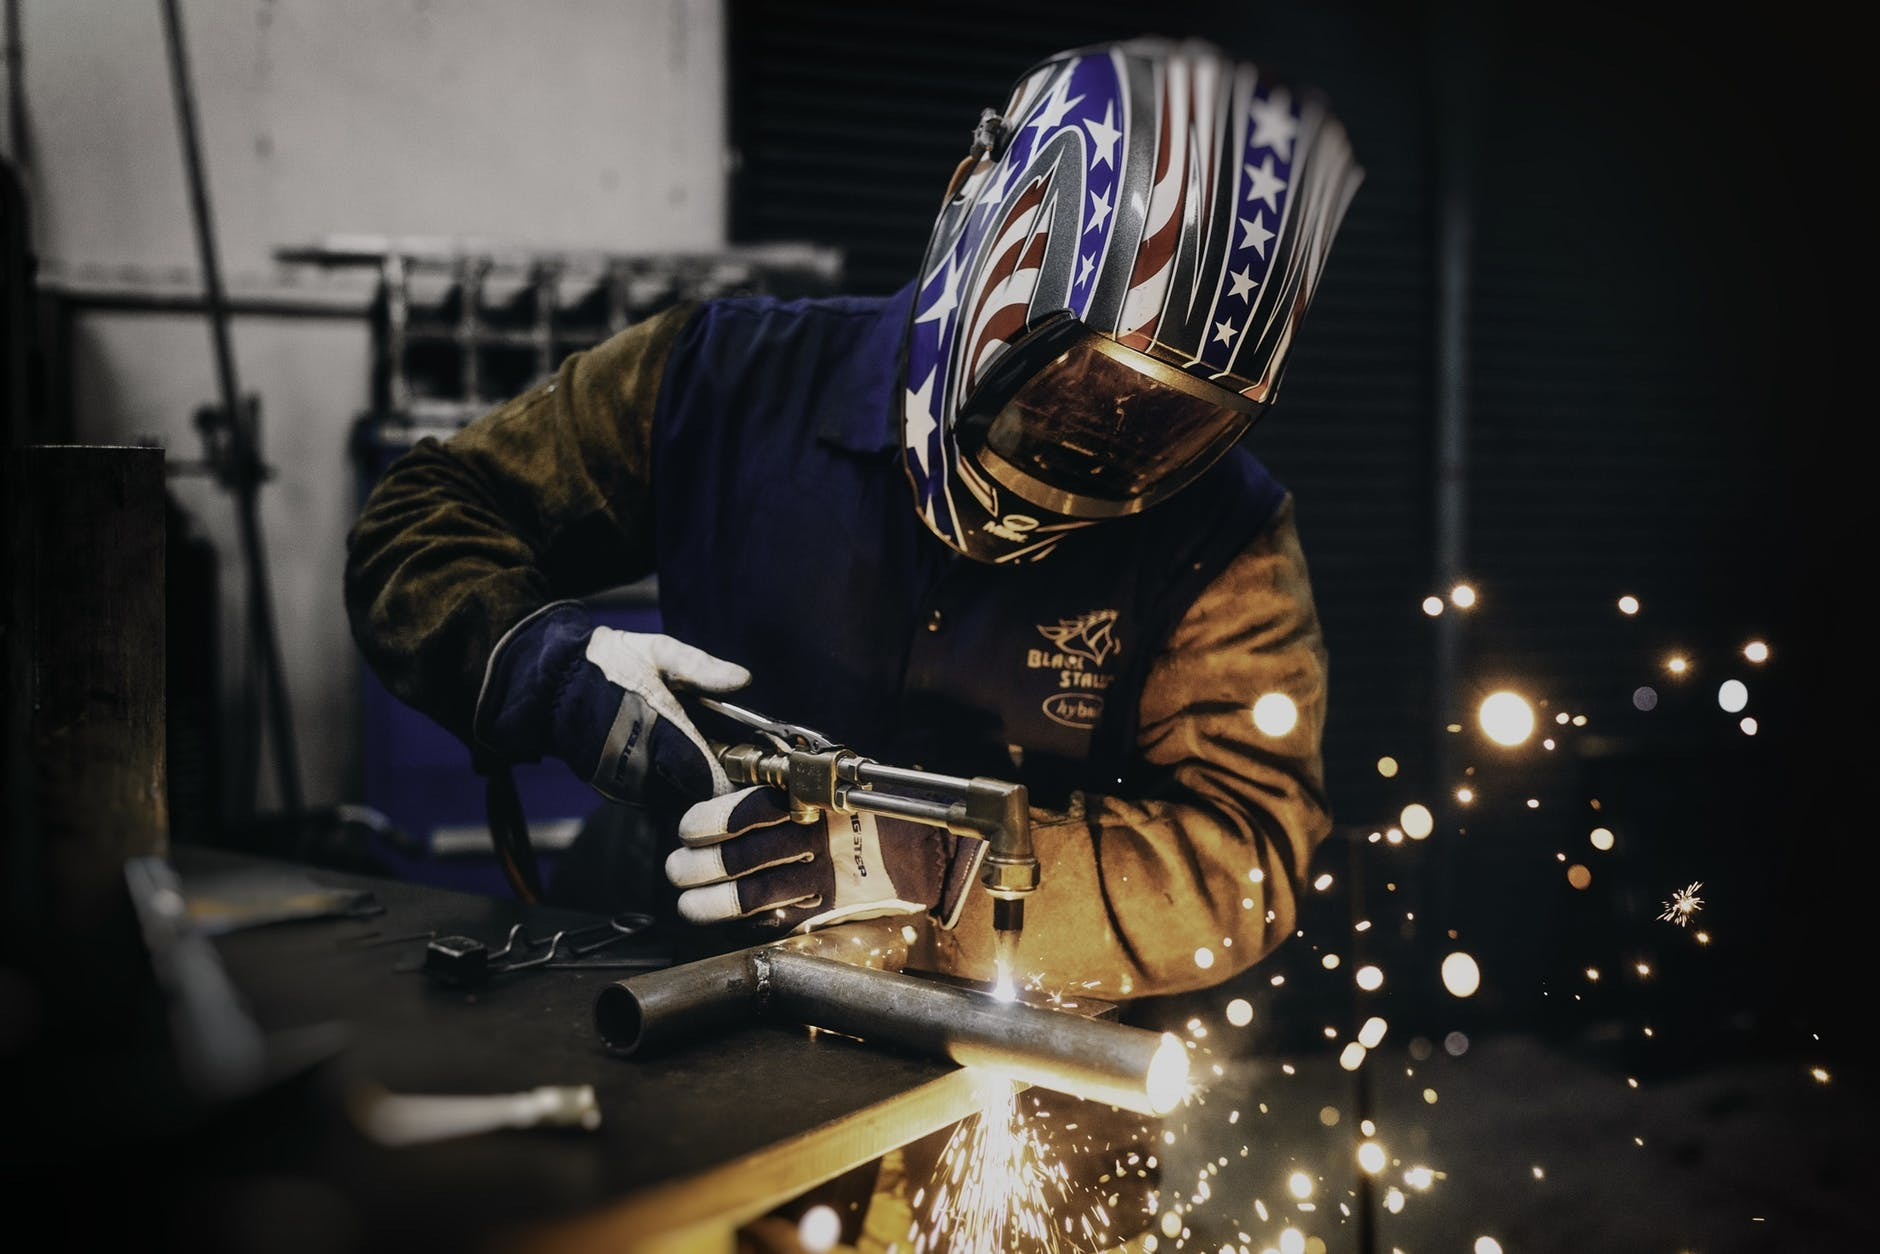helmet: (902, 39, 1358, 526)
